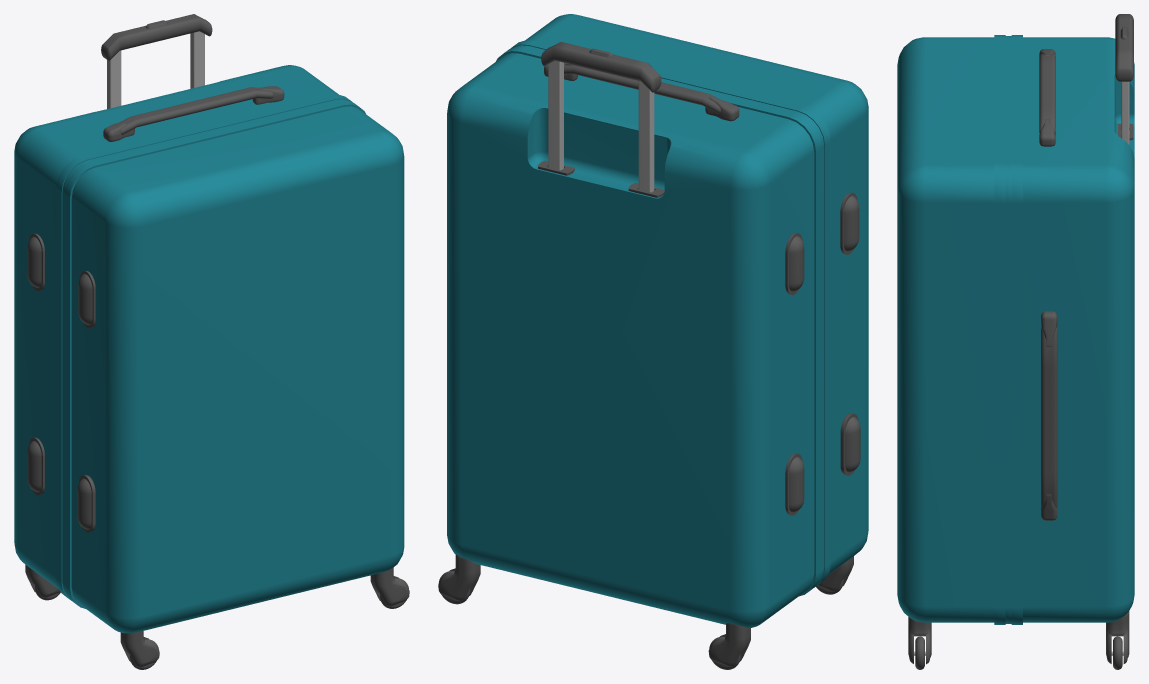
File: suitcase.glb
3 renders of one model, left to right at view 1: azimuth 30°, elevation 25°; view 2: azimuth 150°, elevation 25°; view 3: azimuth 270°, elevation 25°, orthographic. The views are drawn at different scales.
Visible parts, largest first — view 1: Object_2, Object_3, Object_4, Object_5; view 2: Object_2, Object_3, Object_4, Object_5; view 3: Object_2, Object_3, Object_4, Object_5.
Part boxes in pixels (<box>): Object_2: <box>14,65,404,633</box>; Object_3: <box>27,14,408,669</box>; Object_4: <box>25,564,409,667</box>; Object_5: <box>107,31,204,108</box>; Object_2: <box>447,14,868,628</box>; Object_3: <box>438,42,860,669</box>; Object_4: <box>438,160,853,666</box>; Object_5: <box>548,60,654,192</box>; Object_2: <box>897,35,1134,624</box>; Object_3: <box>915,14,1133,669</box>; Object_4: <box>908,123,1133,664</box>; Object_5: <box>914,81,1129,655</box>.
Bounding box in the file's own units: 1.08 × 1.78 × 0.6755.
